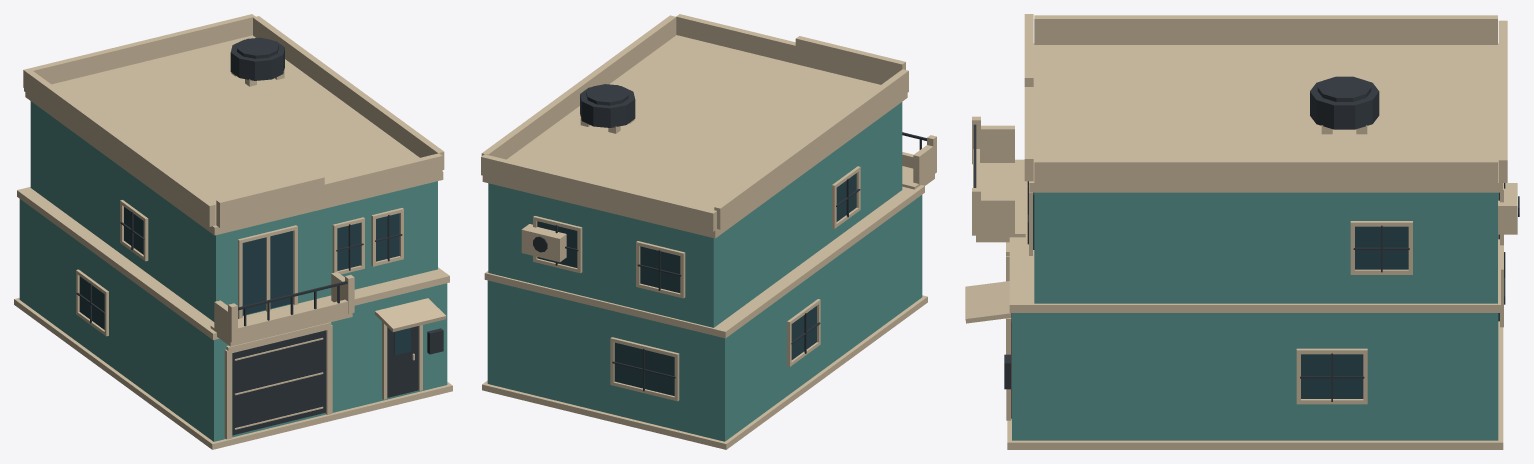
The model's file is yun_caribbean_house_02_lod1.glb.
The picture shows the model from 3 angles, left to right: view 1: azimuth 30°, elevation 25°; view 2: azimuth 150°, elevation 25°; view 3: azimuth 270°, elevation 25°; orthographic projection. The views are drawn at different scales.
Parts seen in each view (by area): view 1: BATCH_DetailRoof_LOD1, BATCH_WallPlaster_LOD1, BATCH_DarkMetal_LOD1, BATCH_WindowGlass_LOD1; view 2: BATCH_DetailRoof_LOD1, BATCH_WallPlaster_LOD1, BATCH_WindowGlass_LOD1, BATCH_DarkMetal_LOD1; view 3: BATCH_DetailRoof_LOD1, BATCH_WallPlaster_LOD1, BATCH_WindowGlass_LOD1, BATCH_DarkMetal_LOD1.
Part boxes in pixels (bbox=[...]): BATCH_DetailRoof_LOD1: bbox=[14, 14, 452, 449]; BATCH_WallPlaster_LOD1: bbox=[19, 101, 447, 441]; BATCH_DarkMetal_LOD1: bbox=[76, 37, 443, 435]; BATCH_WindowGlass_LOD1: bbox=[79, 207, 410, 355]; BATCH_DetailRoof_LOD1: bbox=[481, 14, 936, 449]; BATCH_WallPlaster_LOD1: bbox=[487, 102, 922, 441]; BATCH_WindowGlass_LOD1: bbox=[537, 173, 856, 395]; BATCH_DarkMetal_LOD1: bbox=[533, 84, 926, 391]; BATCH_DetailRoof_LOD1: bbox=[965, 14, 1517, 449]; BATCH_WallPlaster_LOD1: bbox=[1012, 192, 1498, 440]; BATCH_WindowGlass_LOD1: bbox=[1033, 192, 1499, 398]; BATCH_DarkMetal_LOD1: bbox=[973, 76, 1519, 418].
Size of the model in its own units: 7.11 by 7.25 by 11.17.
